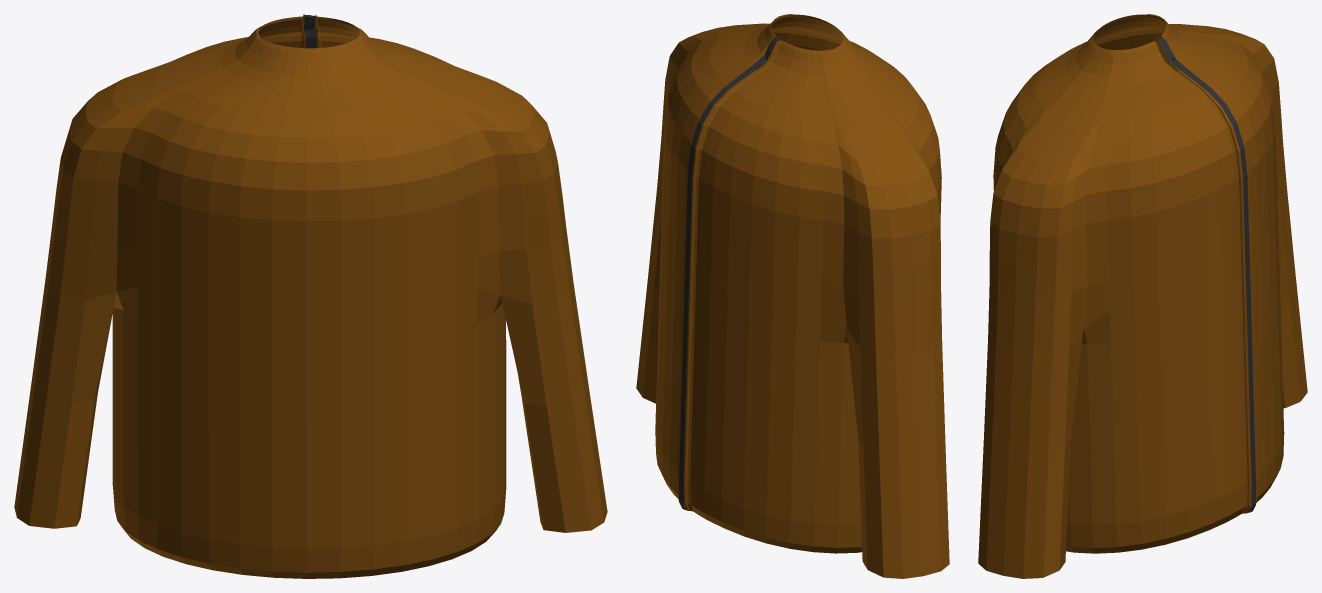
File: Jacket.gltf
The picture shows the model from 3 angles, left to right: view 1: azimuth 30°, elevation 25°; view 2: azimuth 150°, elevation 25°; view 3: azimuth 270°, elevation 25°; orthographic projection. The views are drawn at different scales.
Visible parts, largest first — view 1: node-0; view 2: node-0; view 3: node-0.
Boxes of the visible parts, x1,y1,x2,y2 form: node-0: [14, 14, 607, 578]; node-0: [636, 14, 949, 578]; node-0: [978, 14, 1307, 578].
Bounding box in the file's own units: 158261 × 165489 × 108490.
